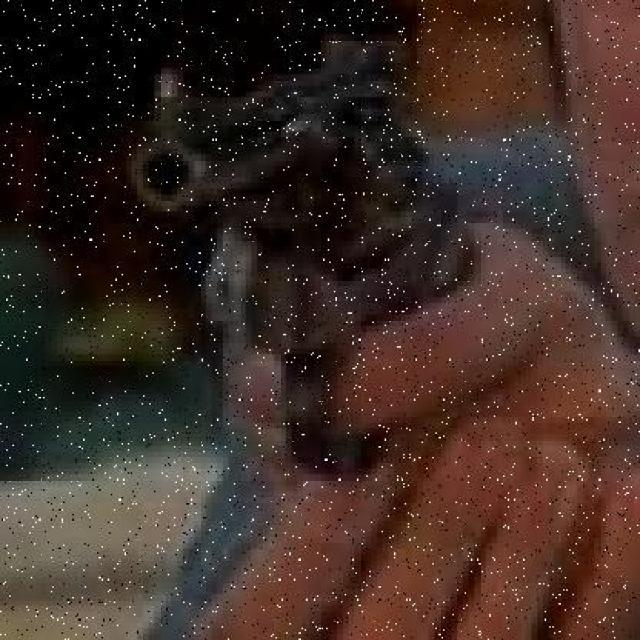rifle: (126, 32, 474, 477)
